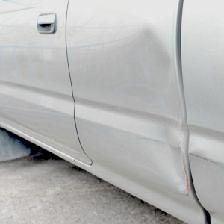door_dent: (81, 23, 177, 210)
